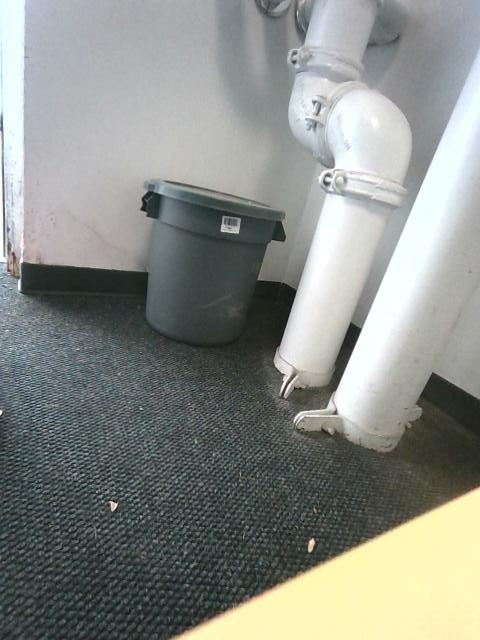ball: (274, 0, 411, 397), (141, 180, 284, 344)
